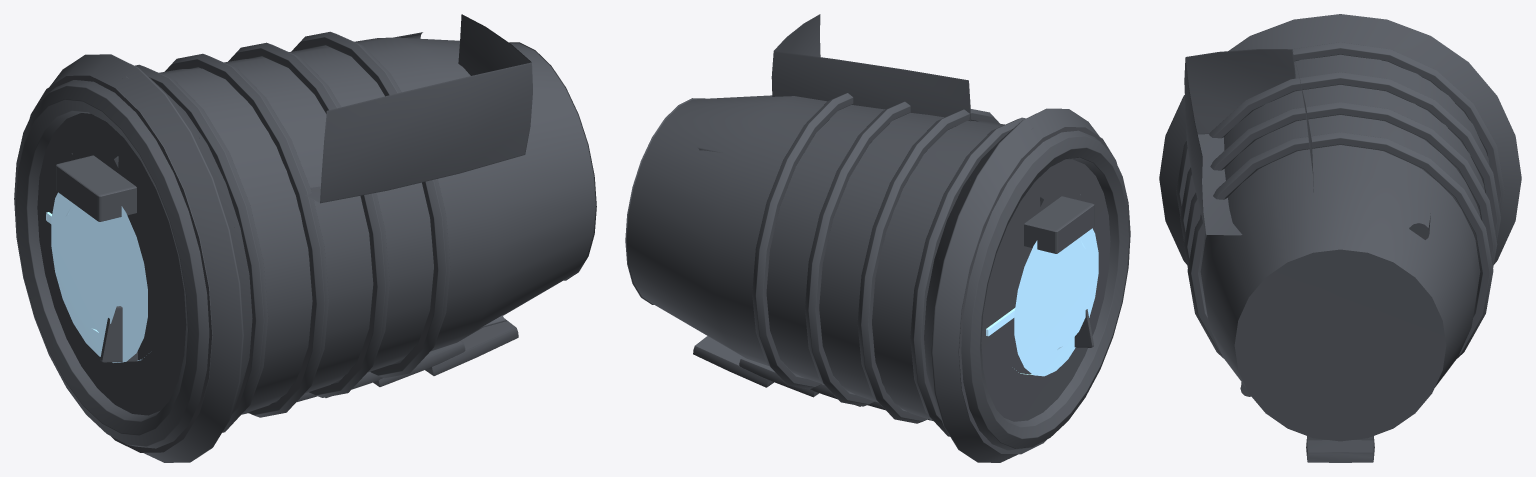
Rendered from _engine_ore_thruster_elite_export.glb.
3 views of the same model, side by side, from view 1: azimuth 30°, elevation 25°; view 2: azimuth 150°, elevation 25°; view 3: azimuth 270°, elevation 25° (orthographic). The views are drawn at different scales.
Visible parts, largest first — view 1: LOD0_ENGINE_INDUSTRIAL_MAIN, engine_industrial_Material_Mechanical_Merged, HOOK_DRIVE_CORE, HOOK_DRIVE_PLUME, DET_ore_dust_cowl, engine_industrial_Material_Hull_Merged, DET_refinery_soot_cake; view 2: LOD0_ENGINE_INDUSTRIAL_MAIN, engine_industrial_Material_Mechanical_Merged, HOOK_DRIVE_CORE, HOOK_DRIVE_PLUME, DET_ore_dust_cowl, engine_industrial_Material_Hull_Merged; view 3: LOD0_ENGINE_INDUSTRIAL_MAIN, engine_industrial_Material_Mechanical_Merged, engine_industrial_Material_Hull_Merged.
Boxes of the visible parts, x1,y1,x2,y2 form: LOD0_ENGINE_INDUSTRIAL_MAIN: (29,37,596,462); engine_industrial_Material_Mechanical_Merged: (14,14,532,448); HOOK_DRIVE_CORE: (51,192,147,362); HOOK_DRIVE_PLUME: (57,207,116,332); DET_ore_dust_cowl: (56,155,136,221); engine_industrial_Material_Hull_Merged: (242,319,518,414); DET_refinery_soot_cake: (100,306,137,362); LOD0_ENGINE_INDUSTRIAL_MAIN: (625,95,1116,462); engine_industrial_Material_Mechanical_Merged: (697,14,1130,450); HOOK_DRIVE_CORE: (1014,228,1098,376); HOOK_DRIVE_PLUME: (1041,241,1093,349); DET_ore_dust_cowl: (1024,196,1094,253); engine_industrial_Material_Hull_Merged: (693,336,932,420); LOD0_ENGINE_INDUSTRIAL_MAIN: (1159,14,1521,441); engine_industrial_Material_Mechanical_Merged: (1176,42,1504,396); engine_industrial_Material_Hull_Merged: (1306,436,1374,462).
Bounding box in the file's own units: 3.6 × 2.9 × 2.87.
